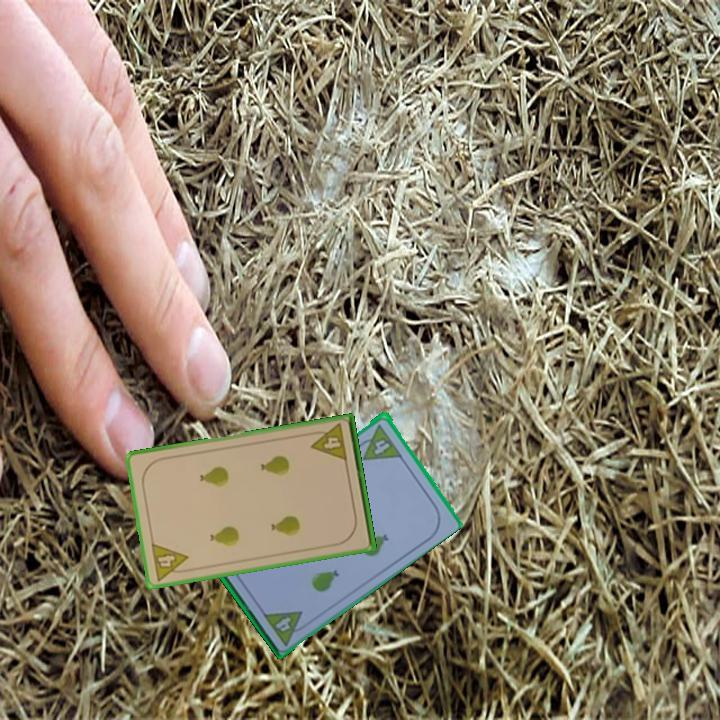4p: (352, 420, 405, 463), (260, 607, 313, 648), (148, 539, 193, 584), (306, 420, 350, 464)
